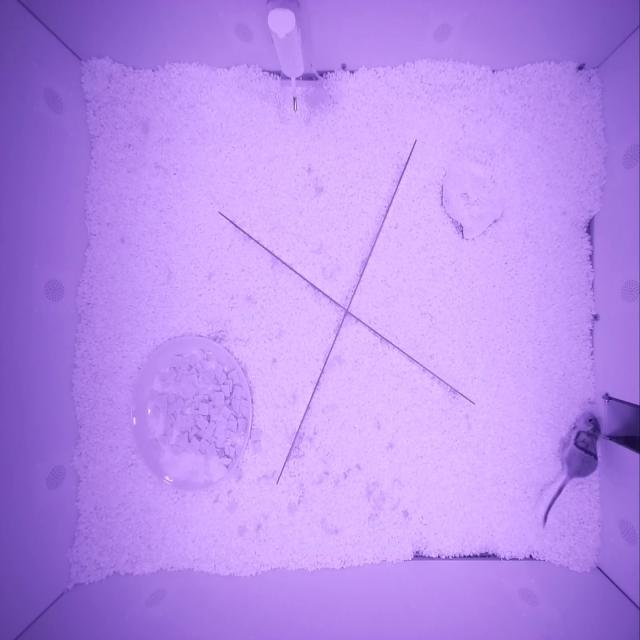adult_front: (563, 413, 601, 479)
